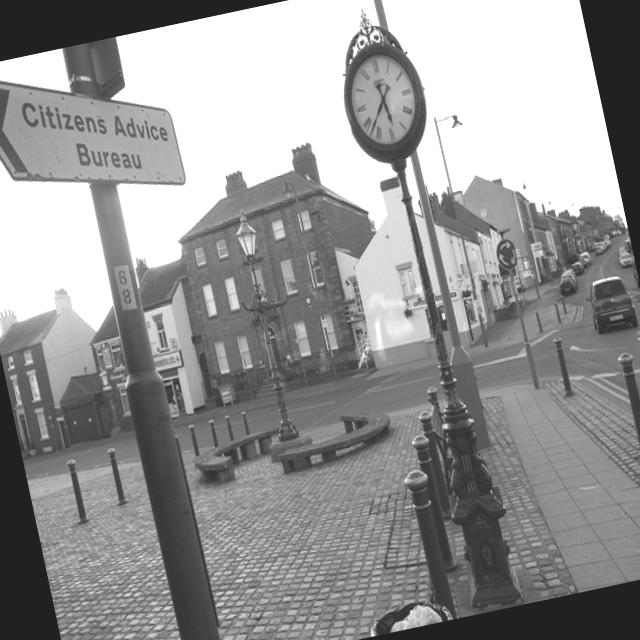Vehicle: (582, 272, 640, 336), (582, 272, 639, 336), (558, 276, 577, 297), (559, 272, 577, 290), (618, 250, 633, 268), (578, 251, 592, 268), (571, 261, 585, 276), (594, 244, 606, 254)
